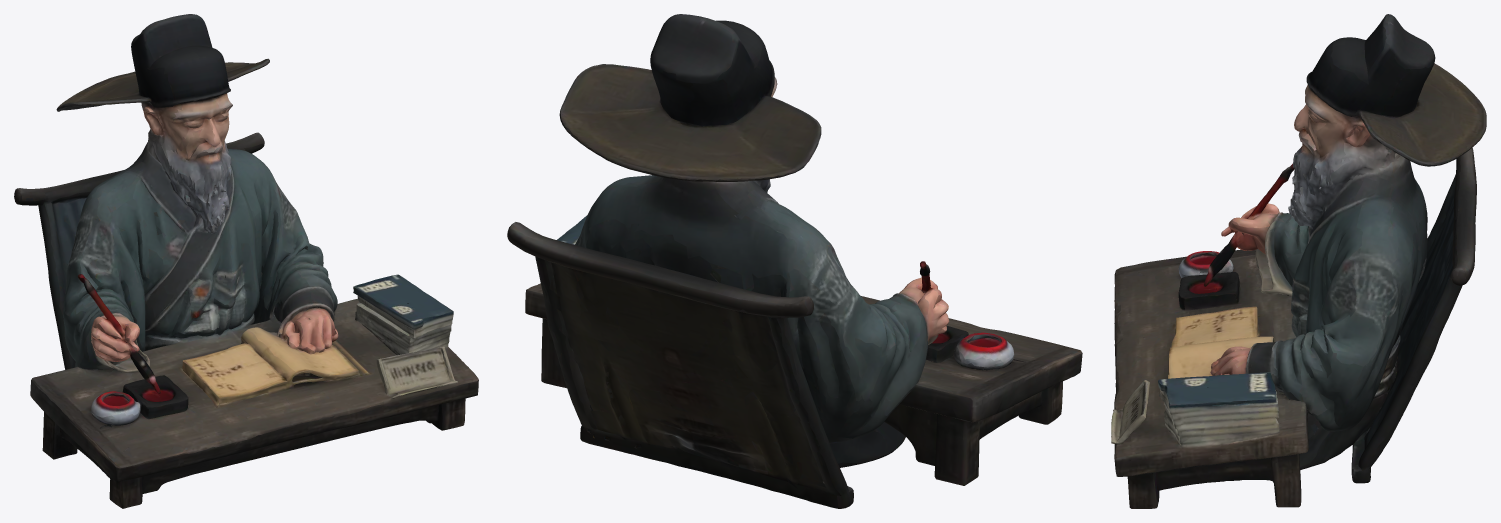
File: S0-42_judge_seated_A.glb
The picture shows the model from 3 angles, left to right: view 1: azimuth 30°, elevation 25°; view 2: azimuth 150°, elevation 25°; view 3: azimuth 270°, elevation 25°; orthographic projection. The views are drawn at different scales.
Visible parts, largest first — view 1: geometry_0; view 2: geometry_0; view 3: geometry_0.
Part boxes in pixels (x1=…): geometry_0: x1=14, y1=14, x2=478, y2=508; geometry_0: x1=507, y1=14, x2=1082, y2=508; geometry_0: x1=1111, y1=14, x2=1486, y2=508.
Bounding box in the file's own units: 0.25 × 0.2456 × 0.2068.
1 material, 1 textured.
